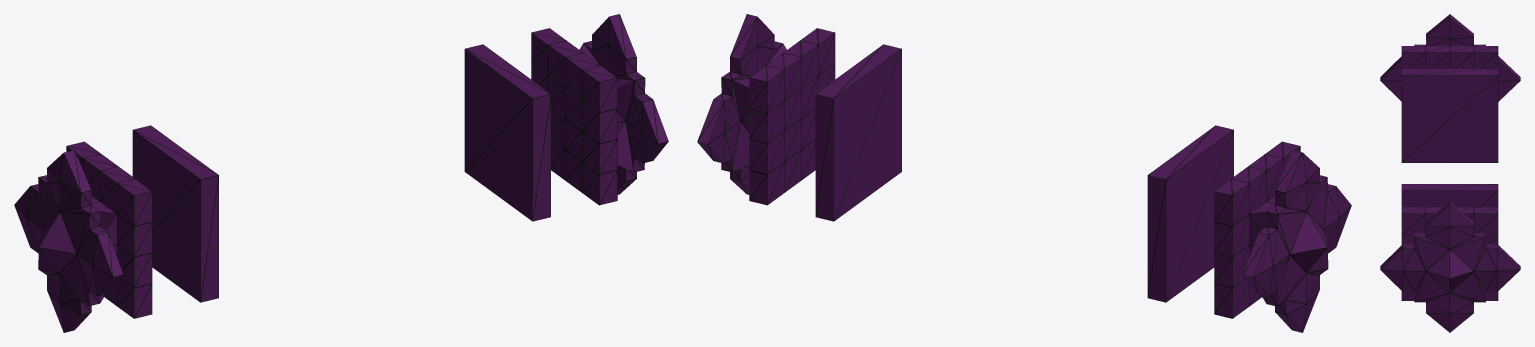
Rendered from boss_outside.obj.
3 renders of one model, left to right at view 1: azimuth 30°, elevation 25°; view 2: azimuth 150°, elevation 25°; view 3: azimuth 270°, elevation 25°, orthographic. The views are drawn at different scales.
Visible parts, largest first — view 1: 立方体.007; view 2: 立方体.007; view 3: 立方体.007.
Boxes of the visible parts, x1,y1,x2,y2 form: 立方体.007: [14, 14, 668, 332]; 立方体.007: [697, 14, 1351, 332]; 立方体.007: [1380, 14, 1520, 332].
Bounding box in the file's own units: 7.31 × 2.11 × 2.06.
1 material, 1 textured.
